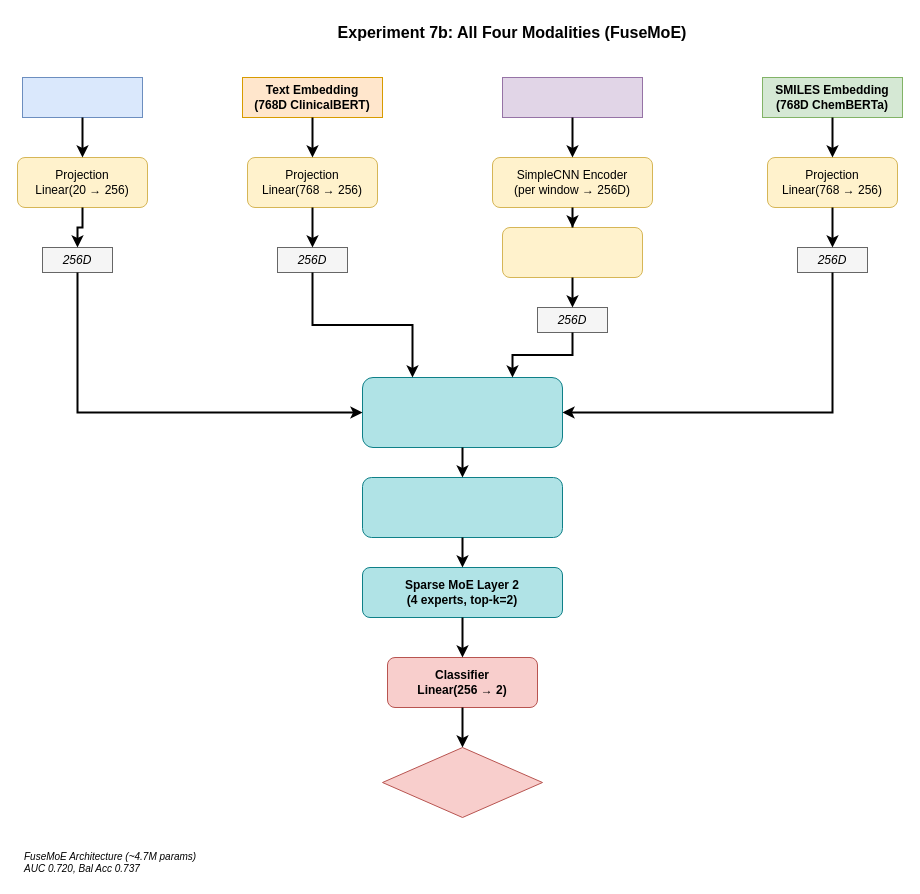
This 920x894 diagram has some shape labels left out. Each missing label, with the box of its shape:
Clinical Features (20D): (22, 76, 142, 118)
Cross-Modal Attention (4 heads, 2 layers) Modality interactions: (362, 376, 562, 448)
EEG Windows (N x 27ch x 2000): (502, 76, 642, 118)
Prediction (Success / Failure): (382, 746, 542, 818)
Sparse MoE Layer 1 (4 experts, top-k=2) Auxiliary loss: 0.1: (362, 476, 562, 538)
Transformer + Pool (2L, 4H) → 256D: (502, 226, 642, 278)
